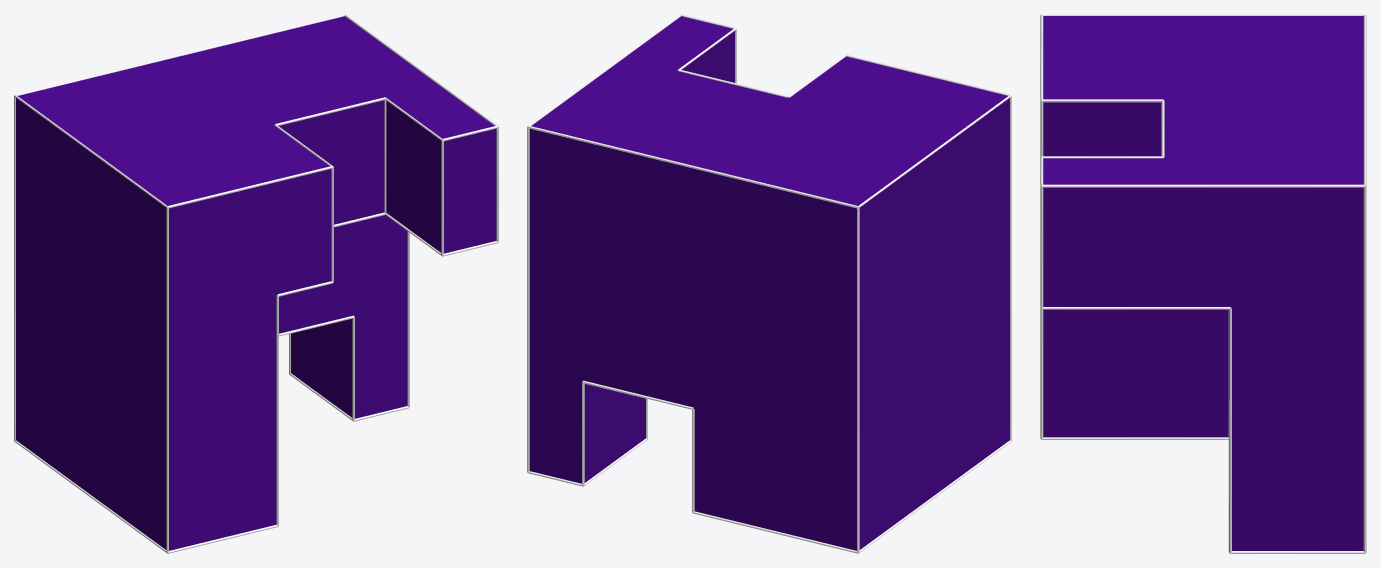
The picture shows the model from 3 angles, left to right: view 1: azimuth 30°, elevation 25°; view 2: azimuth 150°, elevation 25°; view 3: azimuth 270°, elevation 25°; orthographic projection. The views are drawn at different scales.
Parts seen in each view (by area): view 1: VF1, object 1; view 2: VF1, object 1; view 3: VF1, object 1.
Boxes of the visible parts, x1,y1,x2,y2 form: VF1: (16,16,496,550); object 1: (14,14,498,553); VF1: (529,16,1009,550); object 1: (527,14,1011,553); VF1: (1043,16,1363,550); object 1: (1040,14,1366,553).
Bounding box in the file's own units: 1.51 × 1.51 × 1.21.
